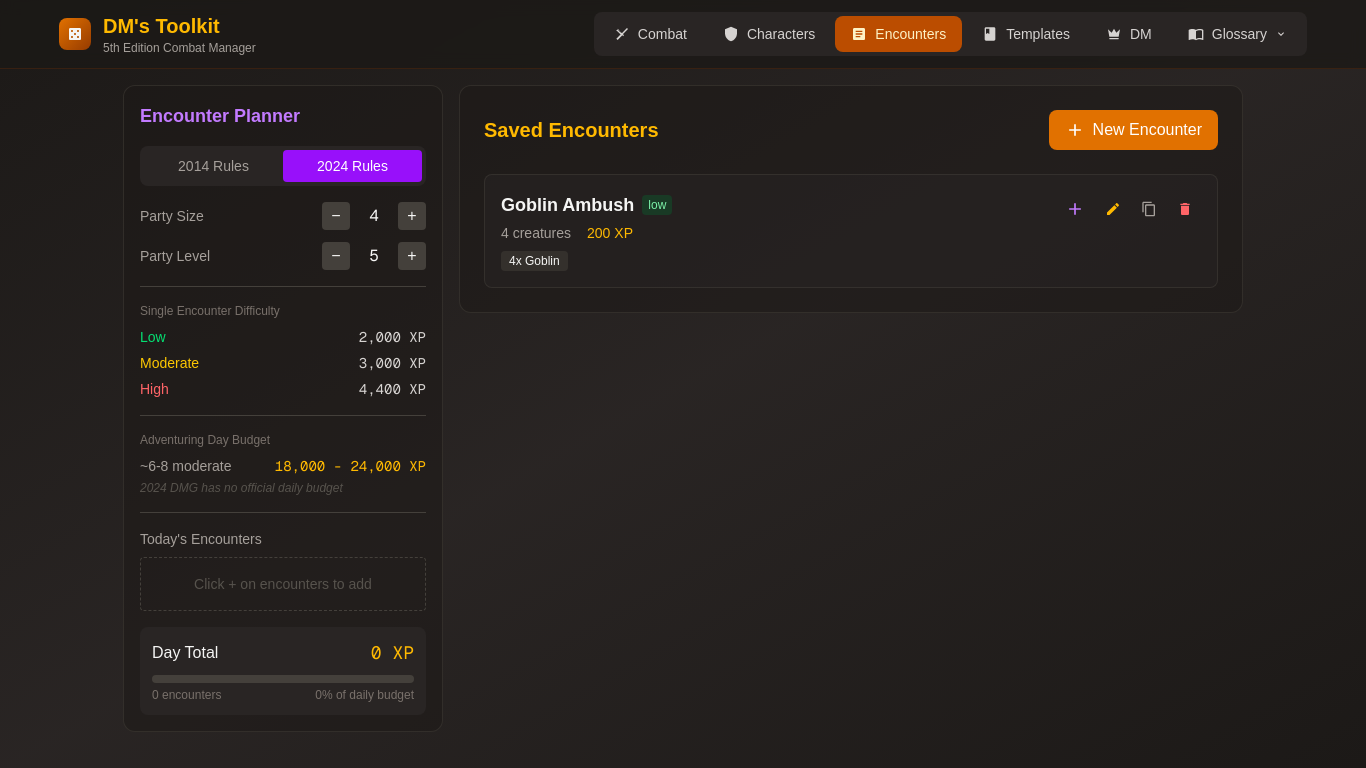
Test case: EncountersPage › daily tracker integration › removes a single daily entry and clears the whole day
Expected: the heading "Saved Encounters" is shown, [484,116,658,144]
Click the button titled "Add to daily tracker": point(1075, 209) [1057,191,1093,227]
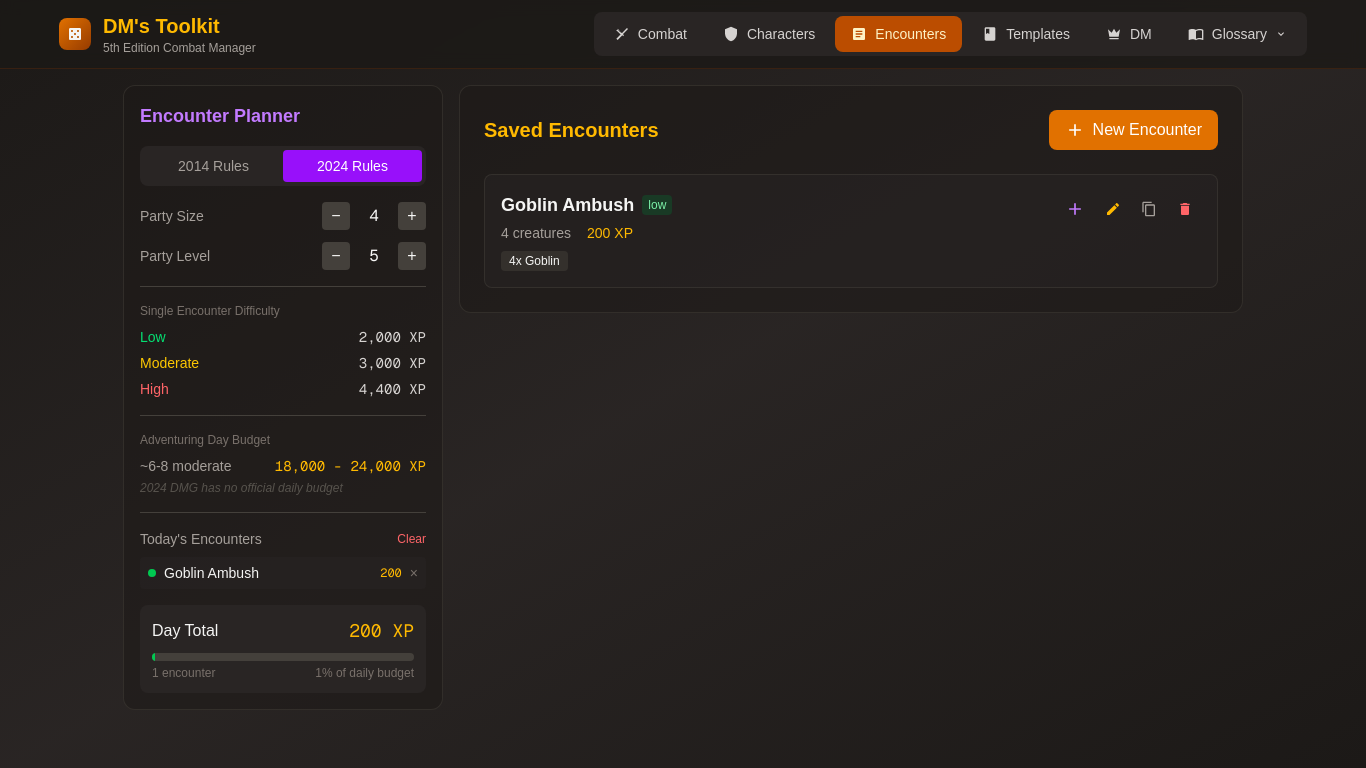
Click the button titled "Add to daily tracker": point(1075, 209) [1057,191,1093,227]
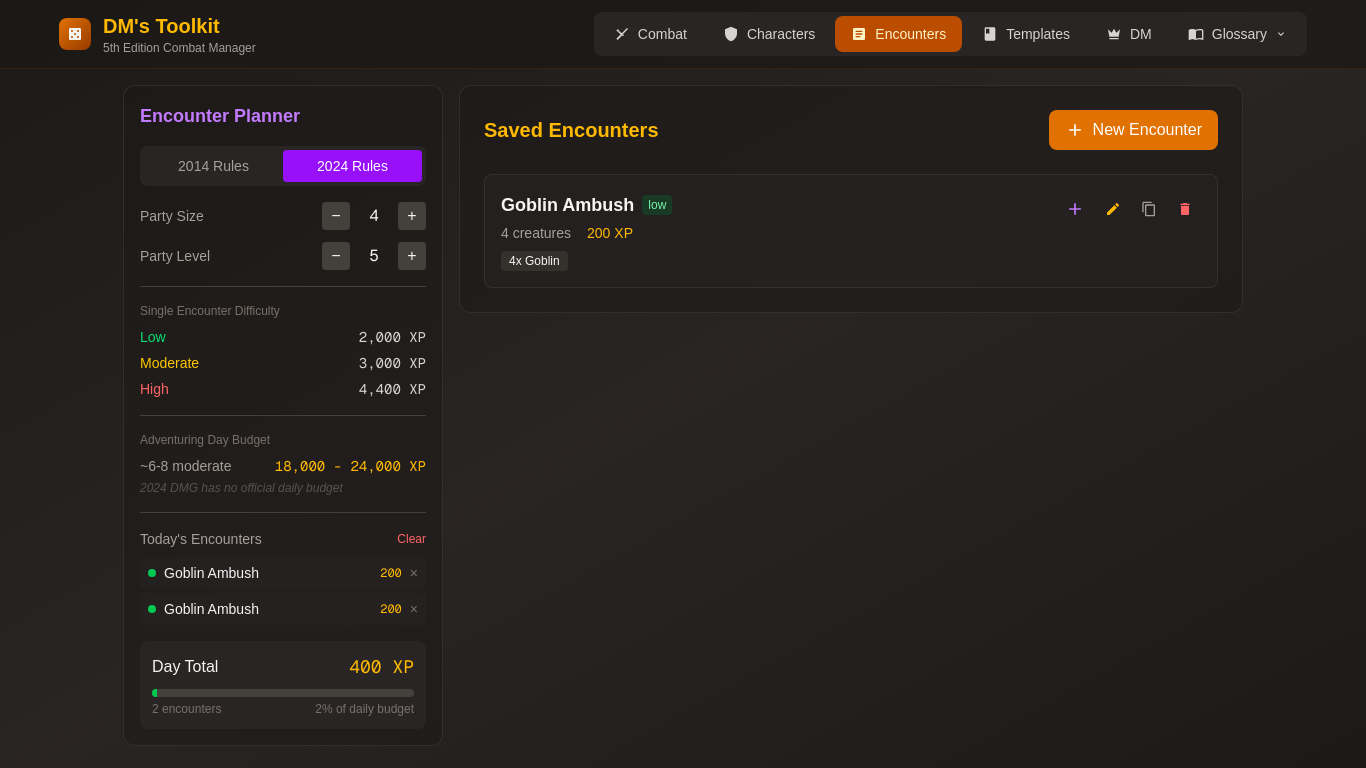
Now the text "2 encounters" is shown, box [152,701,221,717]
Click the 1st button "×": point(414, 573) [410,563,418,583]
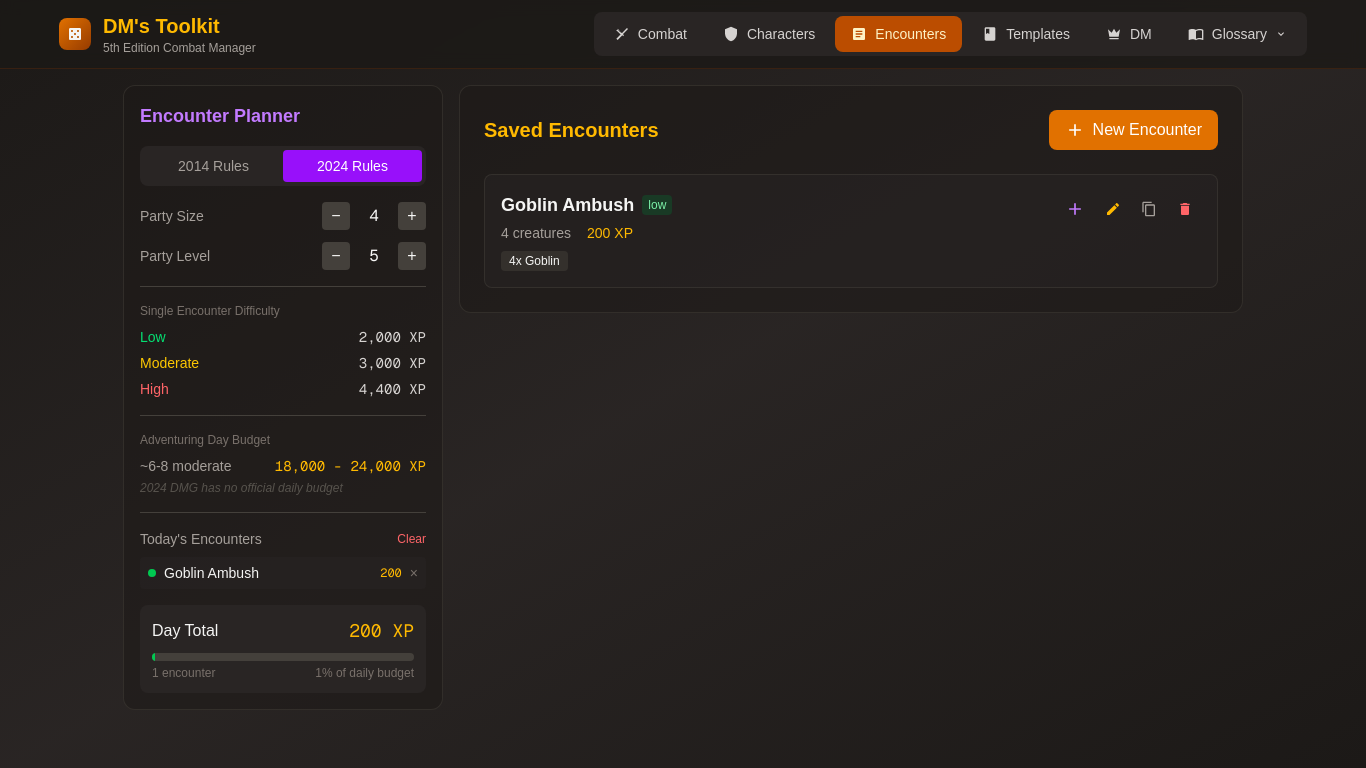
Now the text "1 encounter" is shown, box [152,665,215,681]
Click the button "Clear": point(412, 539) [397,531,426,547]
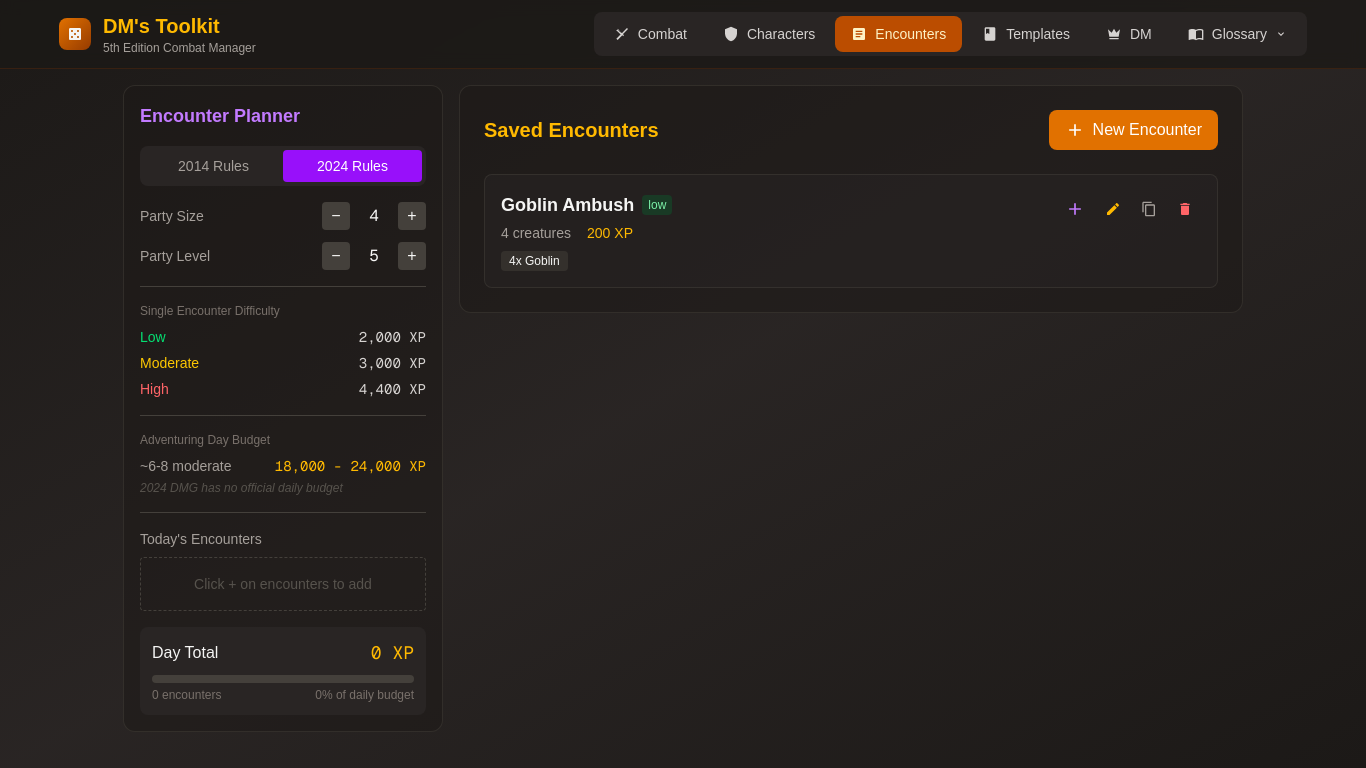
Now the text "Click + on encounters to add" is shown, box [140,557,426,611]
Now the text "0% of daily budget" is shown, box [315,687,414,703]
